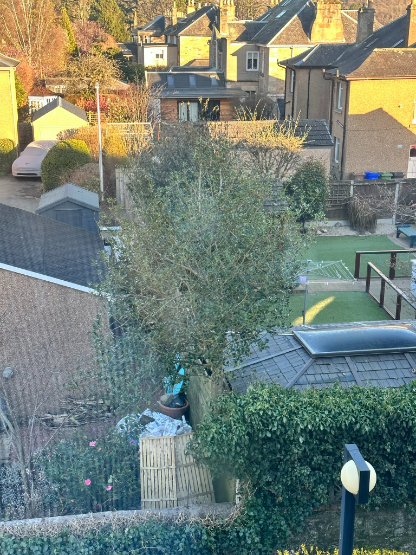tree: (116, 98, 317, 409)
